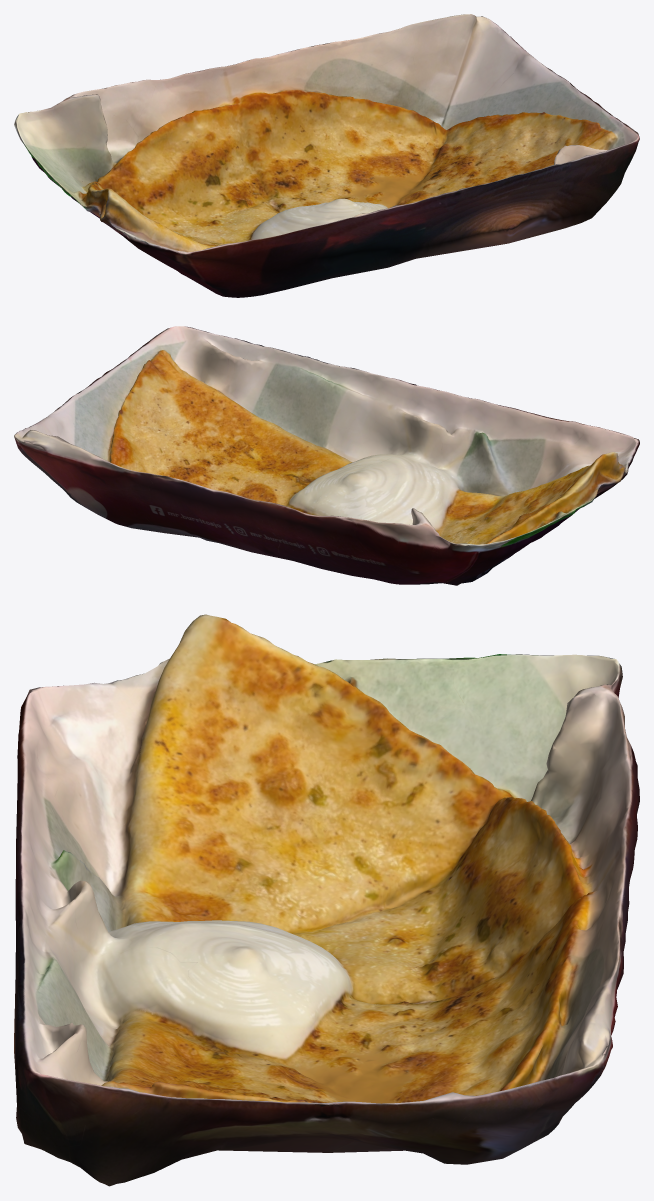
Rendered from Garlic_Tortilla(Sides_Category)_1757459984600.glb.
The picture shows the model from 3 angles, top to bottom: view 1: azimuth 30°, elevation 25°; view 2: azimuth 150°, elevation 25°; view 3: azimuth 270°, elevation 25°; orthographic projection. The views are drawn at different scales.
Parts seen in each view (by area): view 1: 3DModel; view 2: 3DModel; view 3: 3DModel.
Boxes of the visible parts, box(x1,y1,x2,y2) form: 3DModel: box(14, 14, 639, 297); 3DModel: box(14, 326, 639, 585); 3DModel: box(14, 614, 639, 1186).
Bounding box in the file's own units: 0.2316 × 0.0552 × 0.1413.
Materials: 1 (1 with a texture image).
